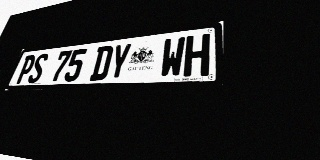5: (63, 48, 87, 82)
7: (49, 50, 73, 82)
D: (89, 45, 114, 81)
H: (183, 33, 210, 77)
P: (15, 54, 37, 84)
S: (26, 53, 50, 83)
W: (159, 36, 186, 78)
Y: (107, 43, 132, 80)
